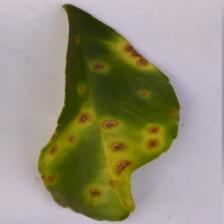canker: (43, 28, 181, 212)
